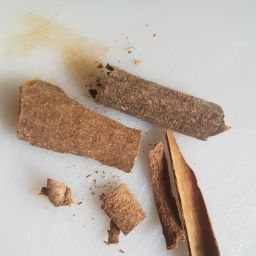Cinemon stick: (2, 24, 256, 256), (82, 54, 248, 145), (10, 76, 147, 184), (133, 126, 233, 256), (42, 171, 152, 248)
